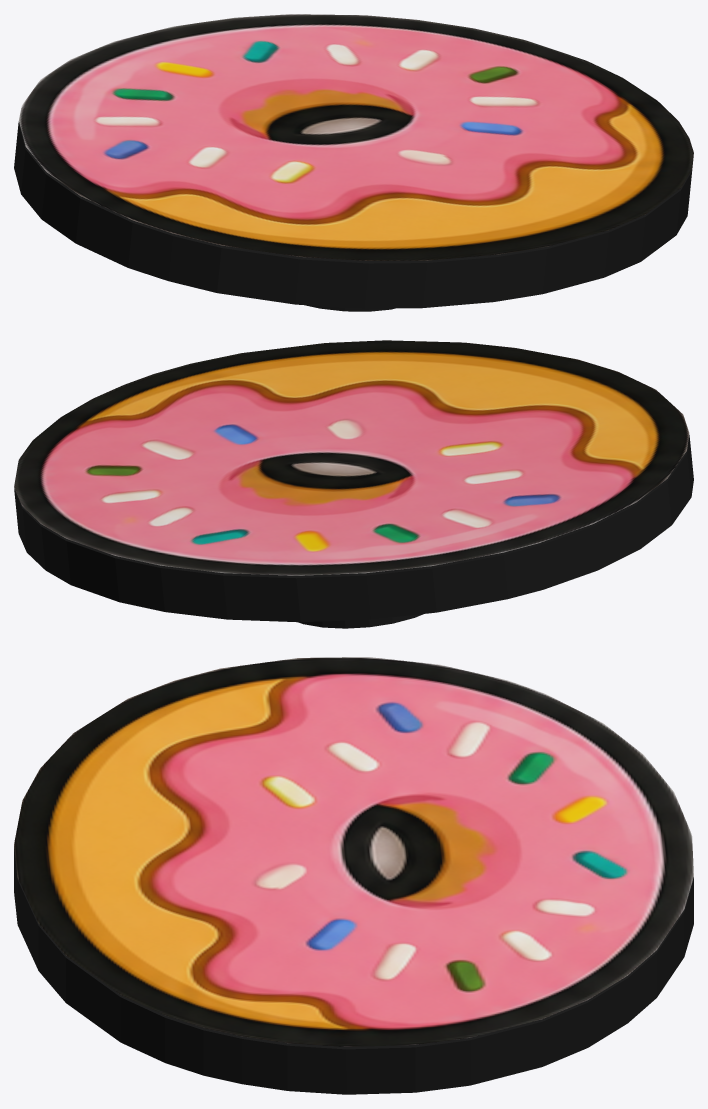
Rendered from food-donut.glb.
3 renders of one model, top to bottom at view 1: azimuth 30°, elevation 25°; view 2: azimuth 150°, elevation 25°; view 3: azimuth 270°, elevation 25°, orthographic. The views are drawn at different scales.
Visible parts, largest first — view 1: FOOD_Donut_MODEL; view 2: FOOD_Donut_MODEL; view 3: FOOD_Donut_MODEL.
Boxes of the visible parts, x1,y1,x2,y2 form: FOOD_Donut_MODEL: (14,14,693,311); FOOD_Donut_MODEL: (14,340,693,628); FOOD_Donut_MODEL: (14,657,693,1094).
Bounding box in the file's own units: 0.3642 × 0.1019 × 0.3275.
Materials: 3 (1 with a texture image).
